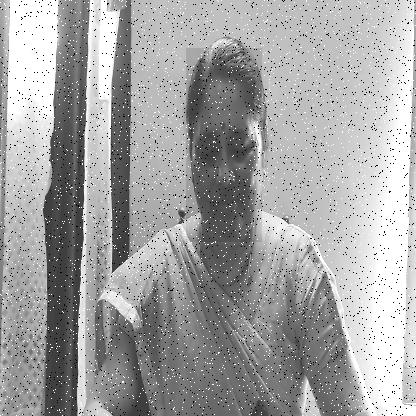Normal: (186, 48, 262, 242)
